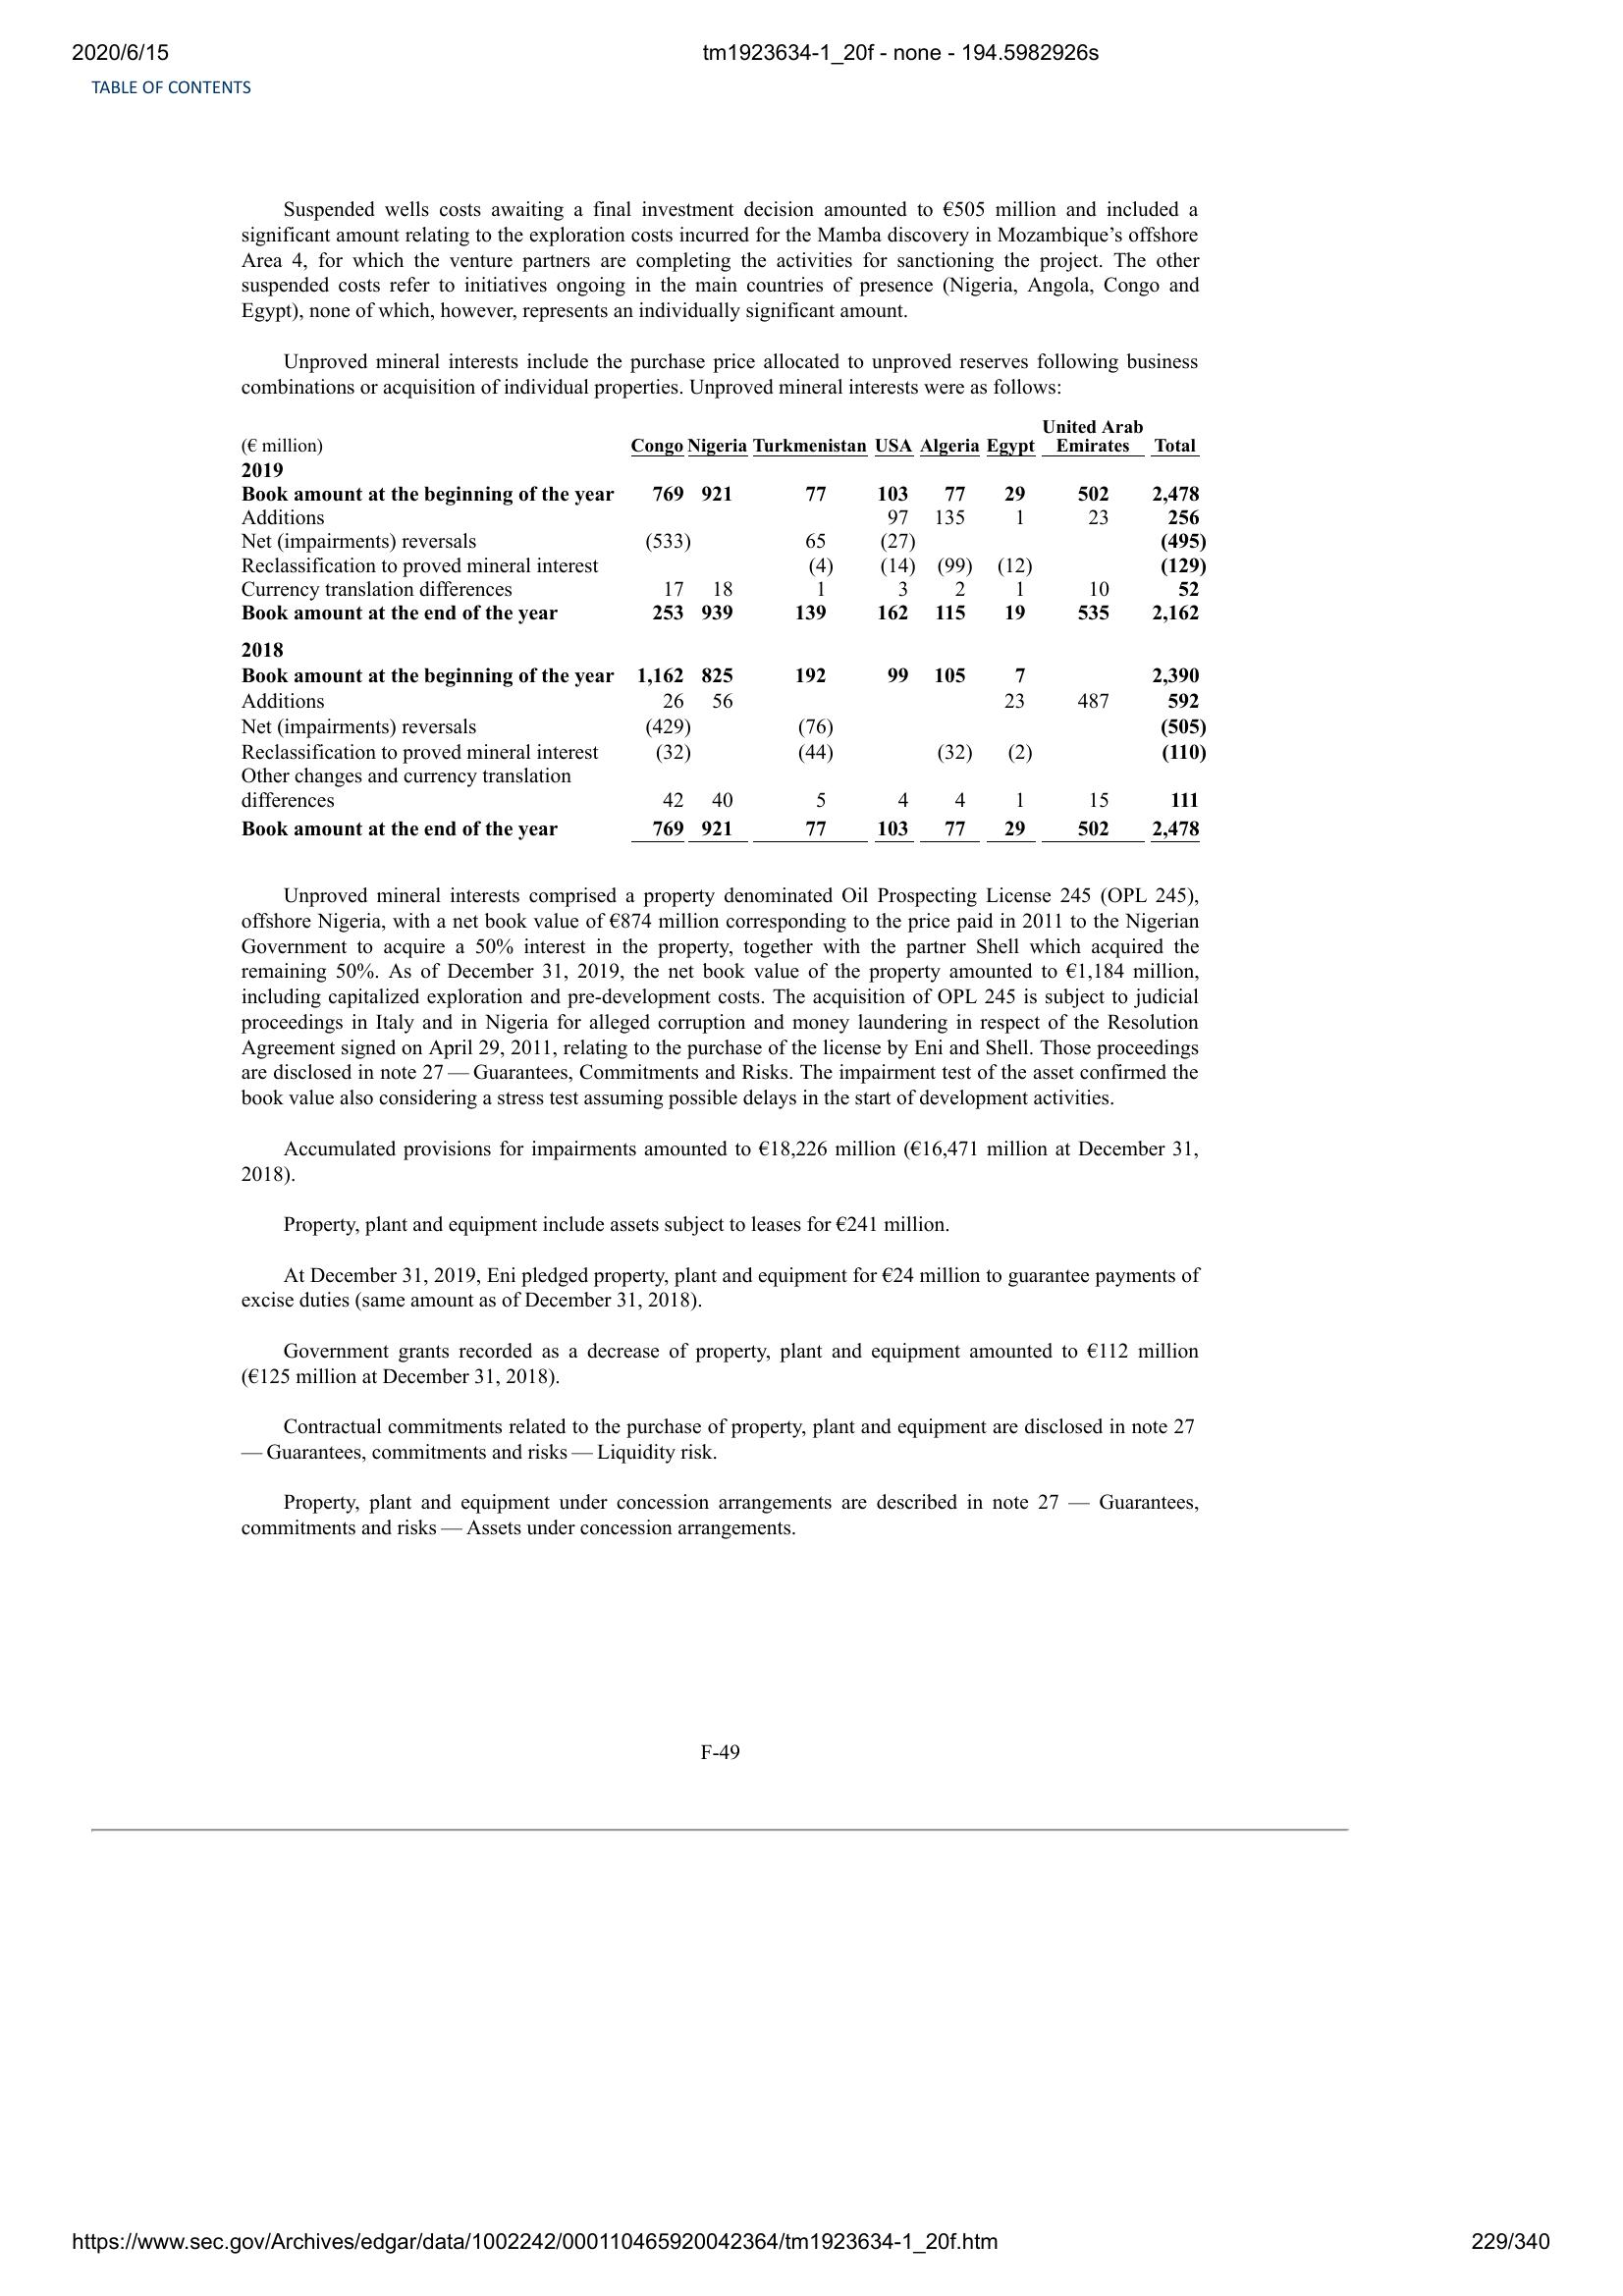table: (234, 411, 1210, 844)
